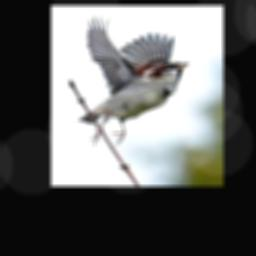Sparrow: (79, 16, 189, 144)
